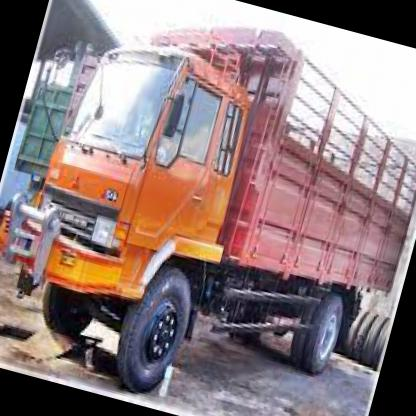truck: (1, 16, 271, 403)
